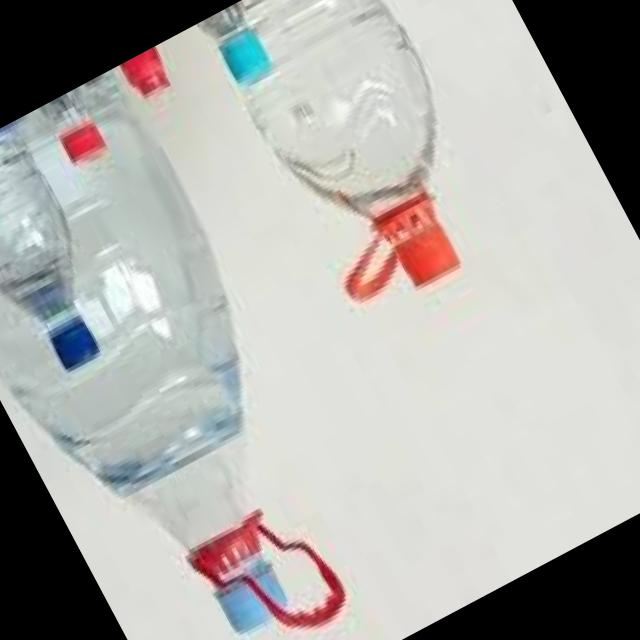Galon: (0, 65, 402, 640), (191, 0, 522, 343)
